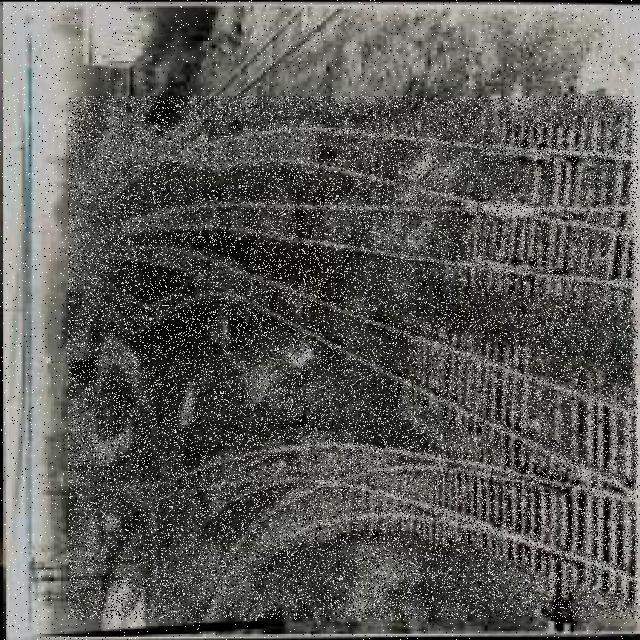rail: (68, 97, 638, 619)
